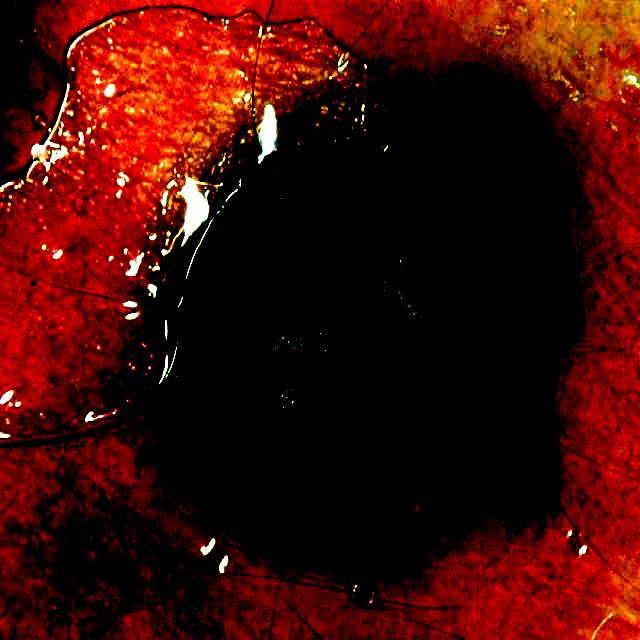MEL: (178, 80, 567, 544)
